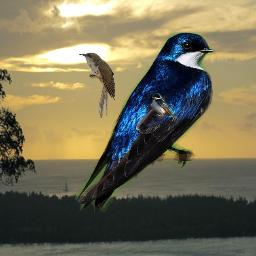Cuckoo: (79, 52, 115, 118)
Swallow: (75, 32, 216, 212), (152, 93, 179, 123)
